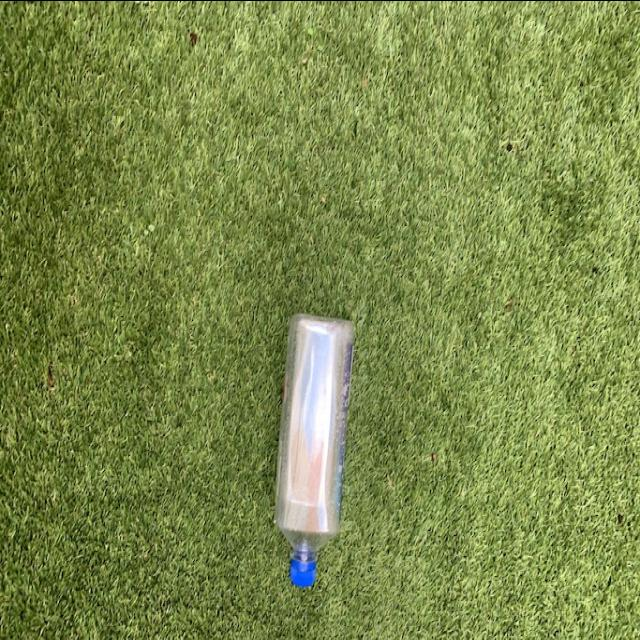PET: (275, 313, 357, 585)
